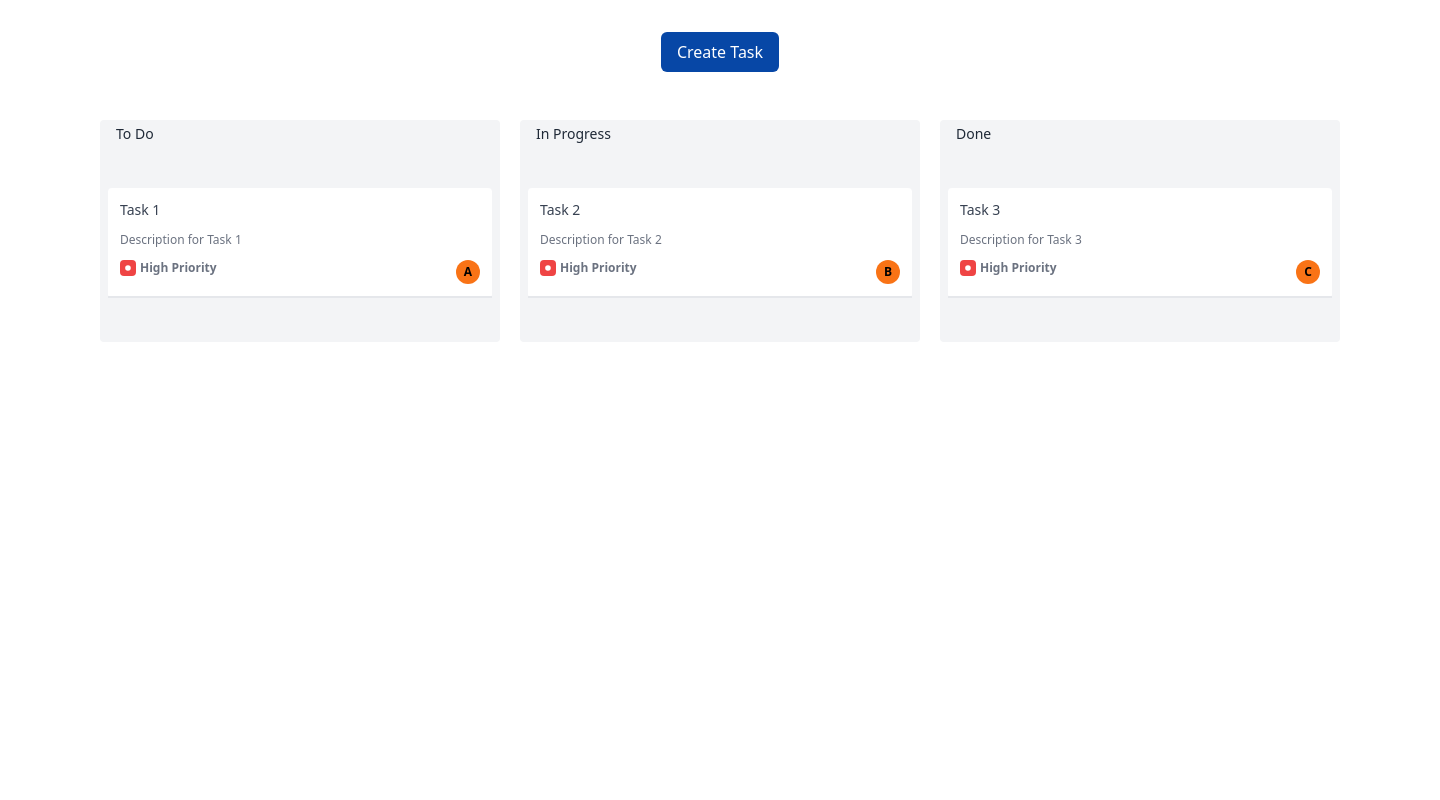
Test: Board Application › should open and close the modal
Click the button with test id "create-task-button": [720, 52] box [661, 32, 779, 72]
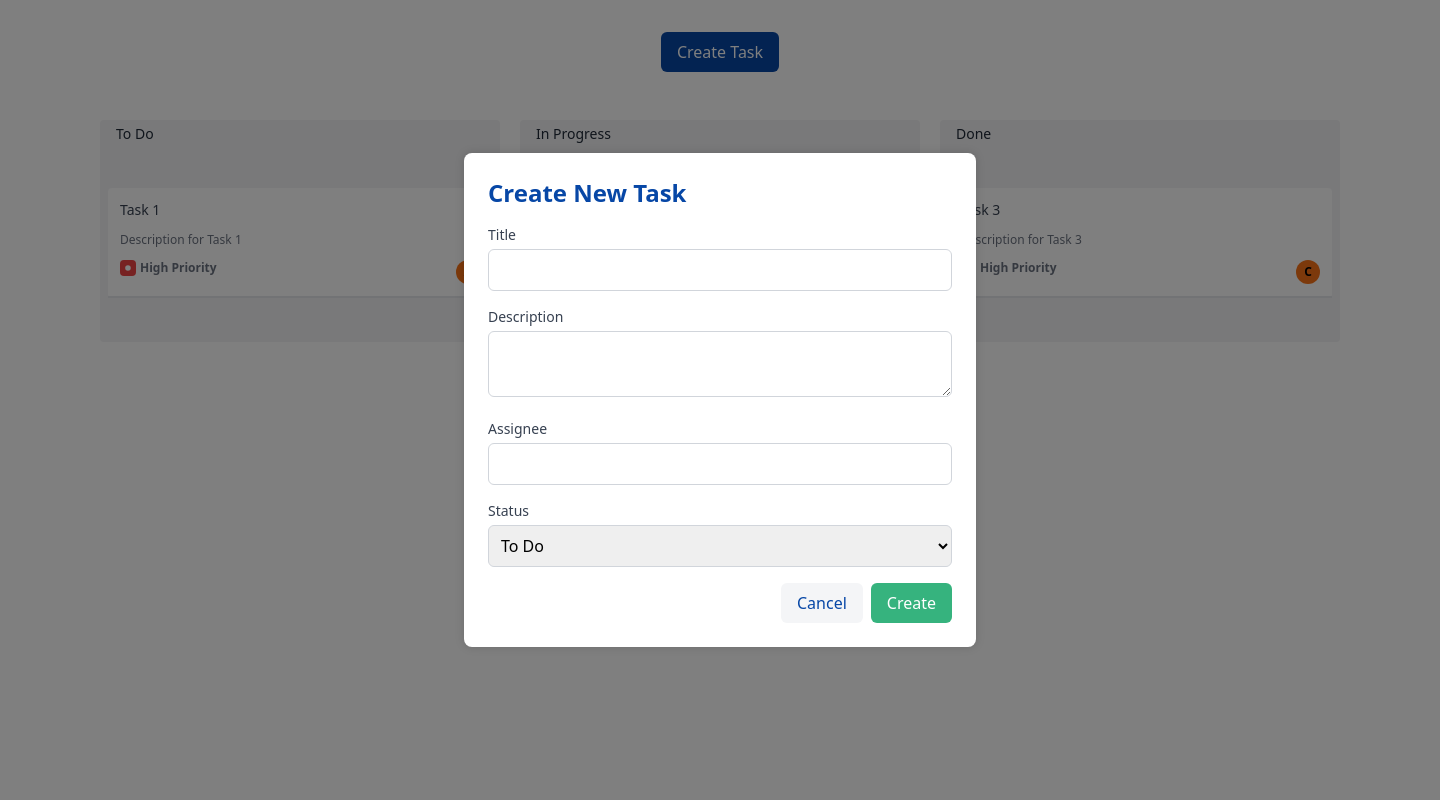
expect the element with test id "modal" is shown: met
Click the button with test id "close-modal": [822, 603] box [781, 583, 863, 623]
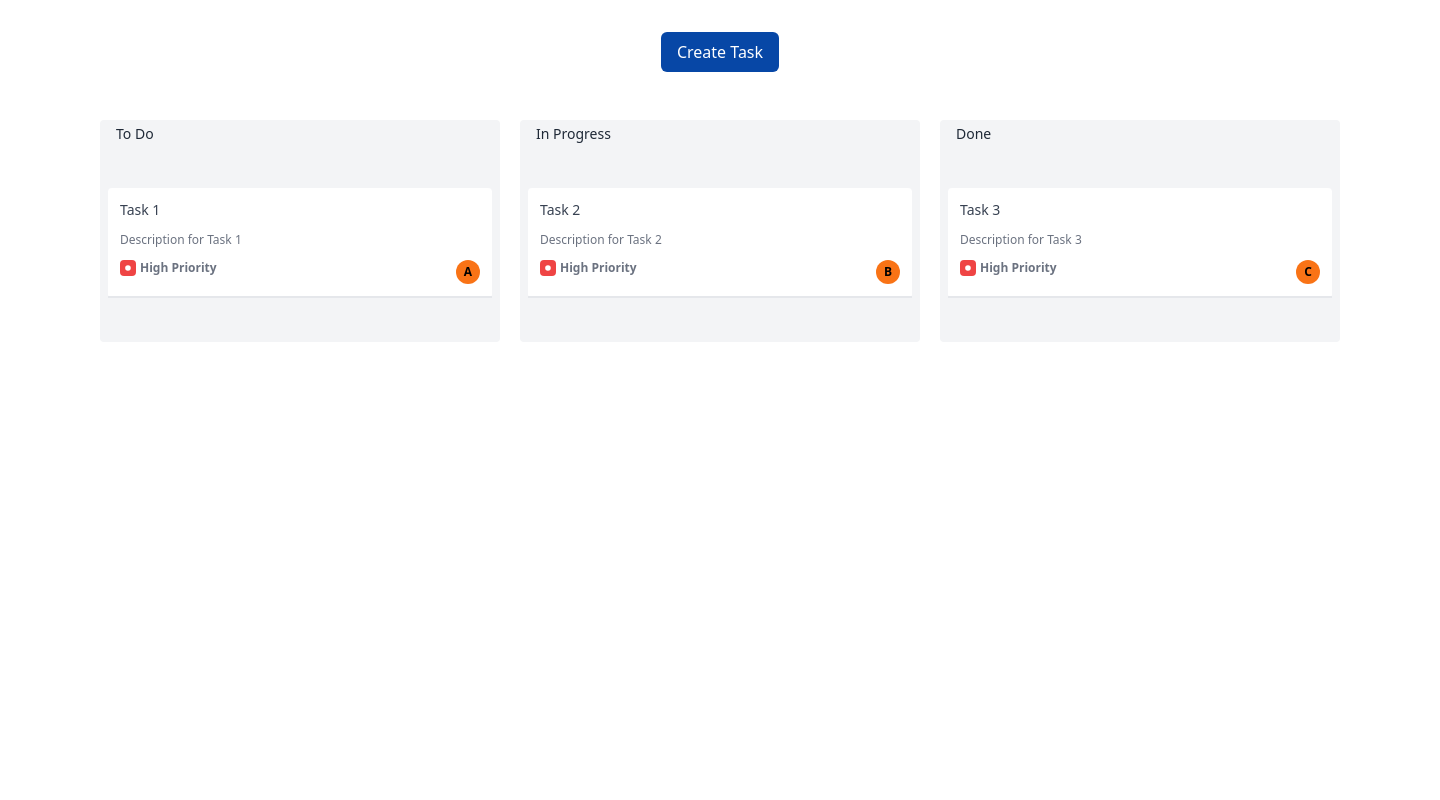
expect the heading "Create New Task" is gone: met
